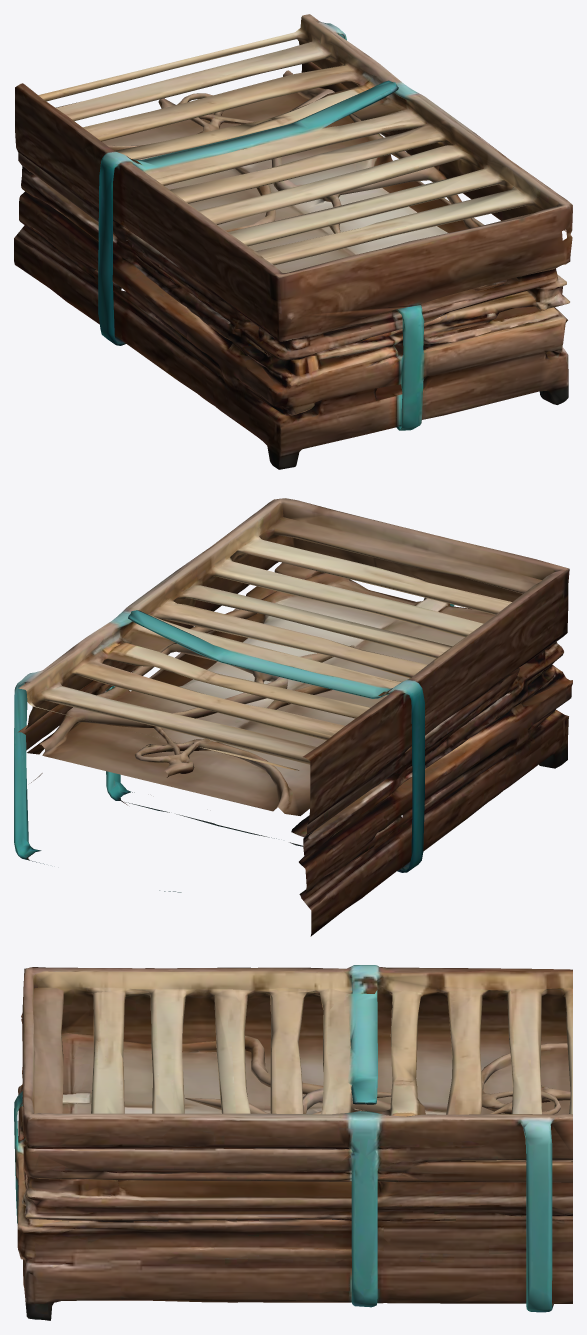
The model's file is bed.glb.
3 renders of one model, top to bottom at view 1: azimuth 30°, elevation 25°; view 2: azimuth 150°, elevation 25°; view 3: azimuth 270°, elevation 25°, orthographic. The views are drawn at different scales.
Visible parts, largest first — view 1: tripo_node_3b17da9b; view 2: tripo_node_3b17da9b; view 3: tripo_node_3b17da9b.
Part boxes in pixels (<box>): tripo_node_3b17da9b: <box>14,14,572,469</box>; tripo_node_3b17da9b: <box>14,498,572,936</box>; tripo_node_3b17da9b: <box>14,965,572,1320</box>.
Size of the model in its own units: 49.13 by 29.79 by 70.77.
Materials: 1 (1 with a texture image).
